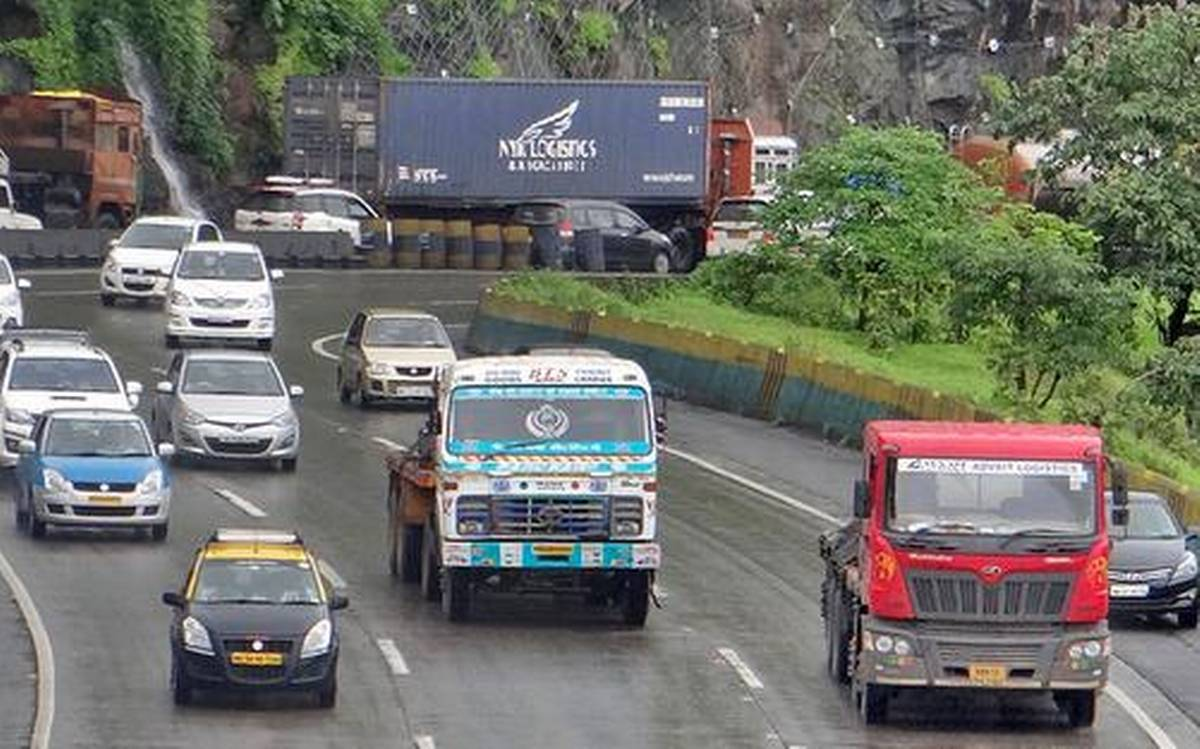car: (842, 425, 1114, 732), (385, 359, 649, 630), (172, 537, 342, 718), (16, 406, 179, 537), (156, 345, 305, 480), (1, 333, 139, 469), (164, 235, 283, 348), (1093, 484, 1198, 612), (337, 301, 459, 406), (97, 216, 219, 304)
